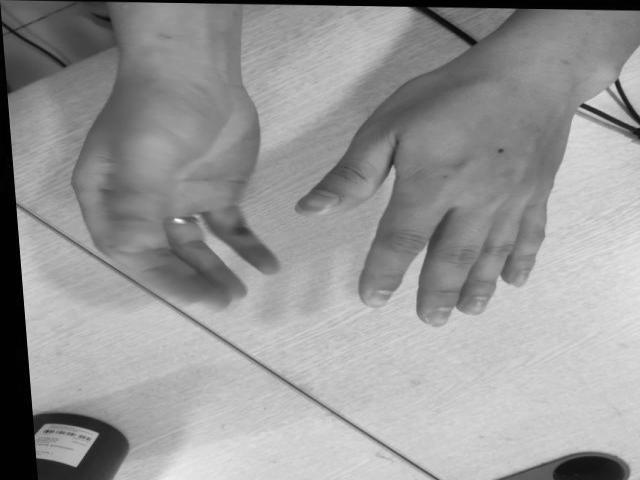not-gloved: (299, 62, 582, 324), (69, 56, 276, 308)
